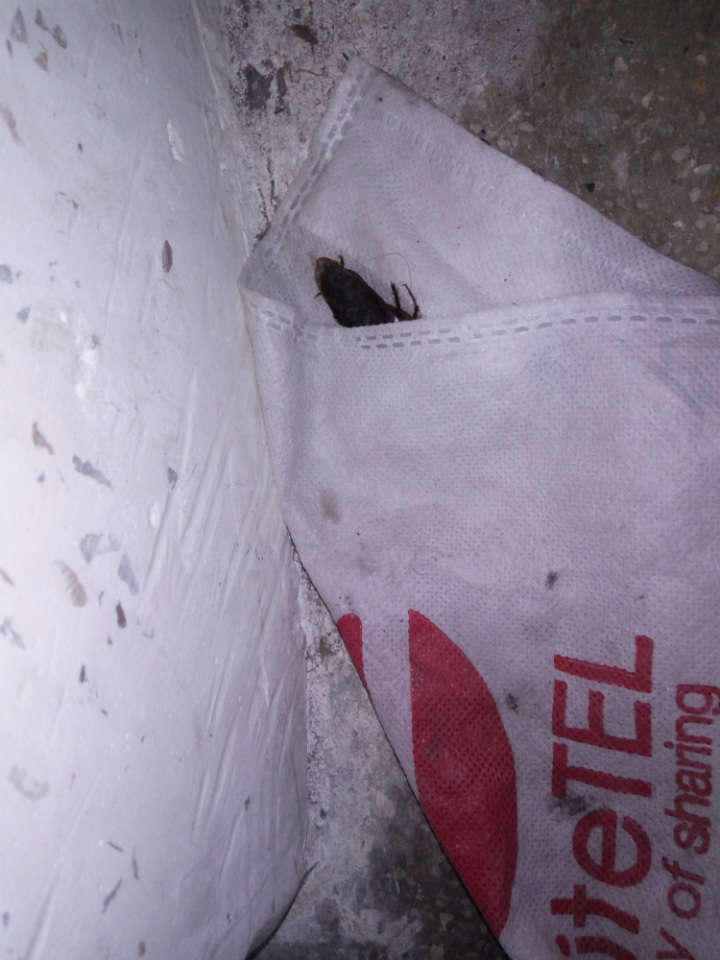cockroach: (268, 213, 444, 324)
